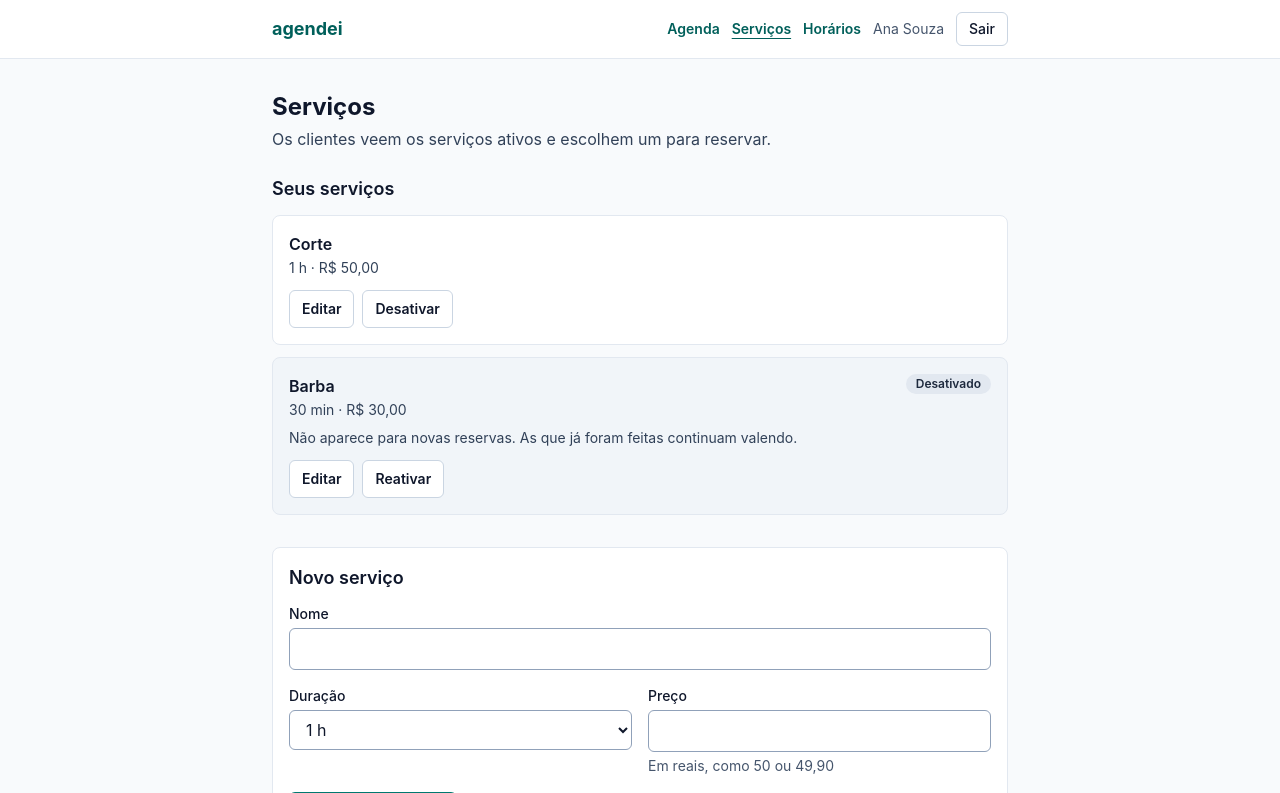
Test: serviços do prestador › edita um serviço e devolve o foco ao botão "Editar" (RF04)
Click the button named "Editar Corte" at (322, 309), box [289,290,354,328]
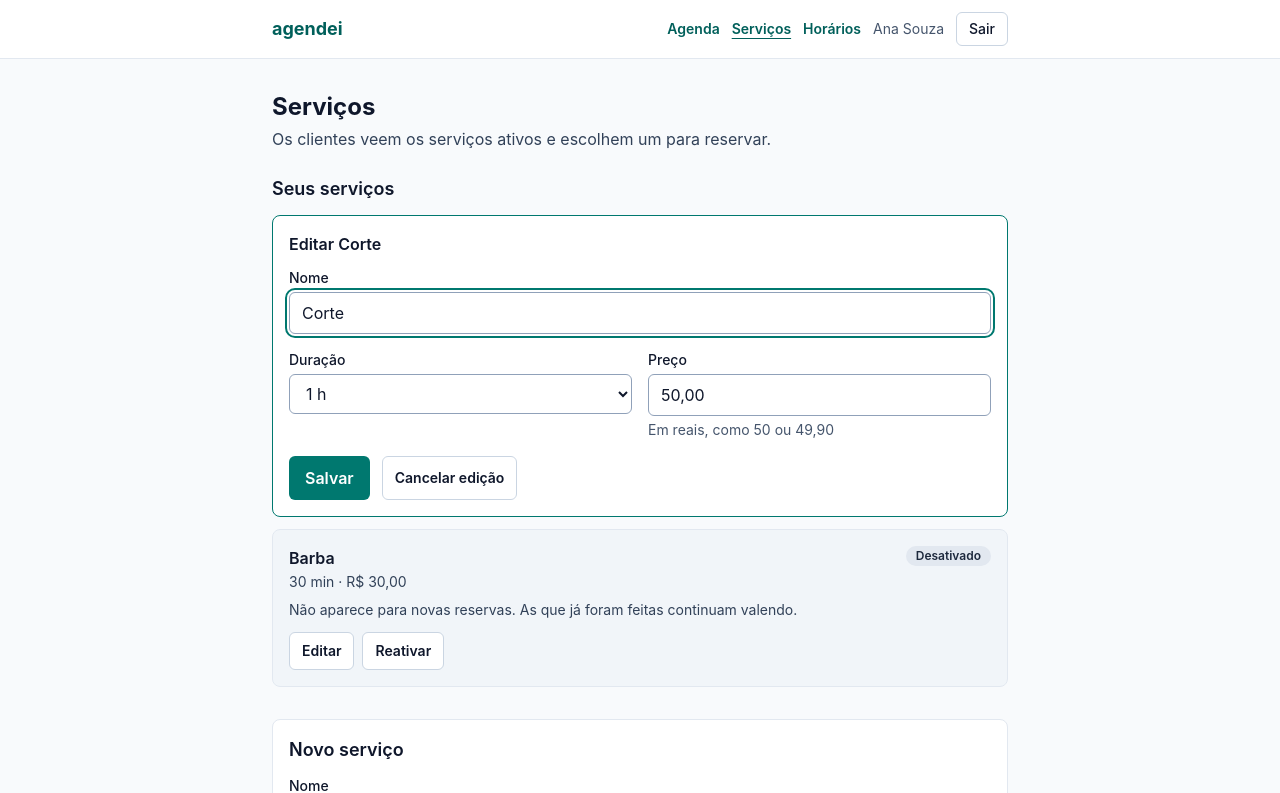
Expected: the field labelled "Nome" holds "Corte", [289,292,991,334]
Expected: the field labelled "Preço" holds "50,00"
Replace the text in the field labelled "Preço" with "55" at (820, 395), box [648,374,991,416]
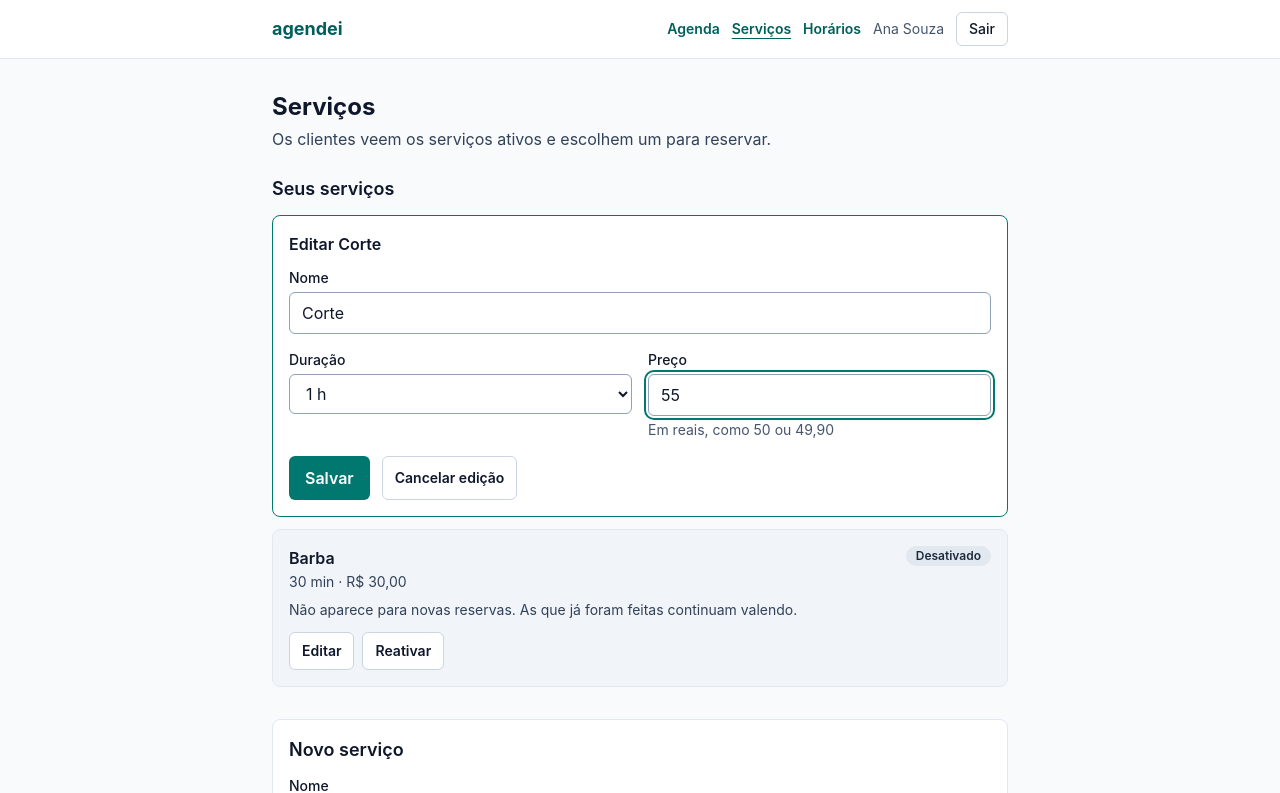
Click the button "Salvar" at (329, 478), box [289,456,370,500]
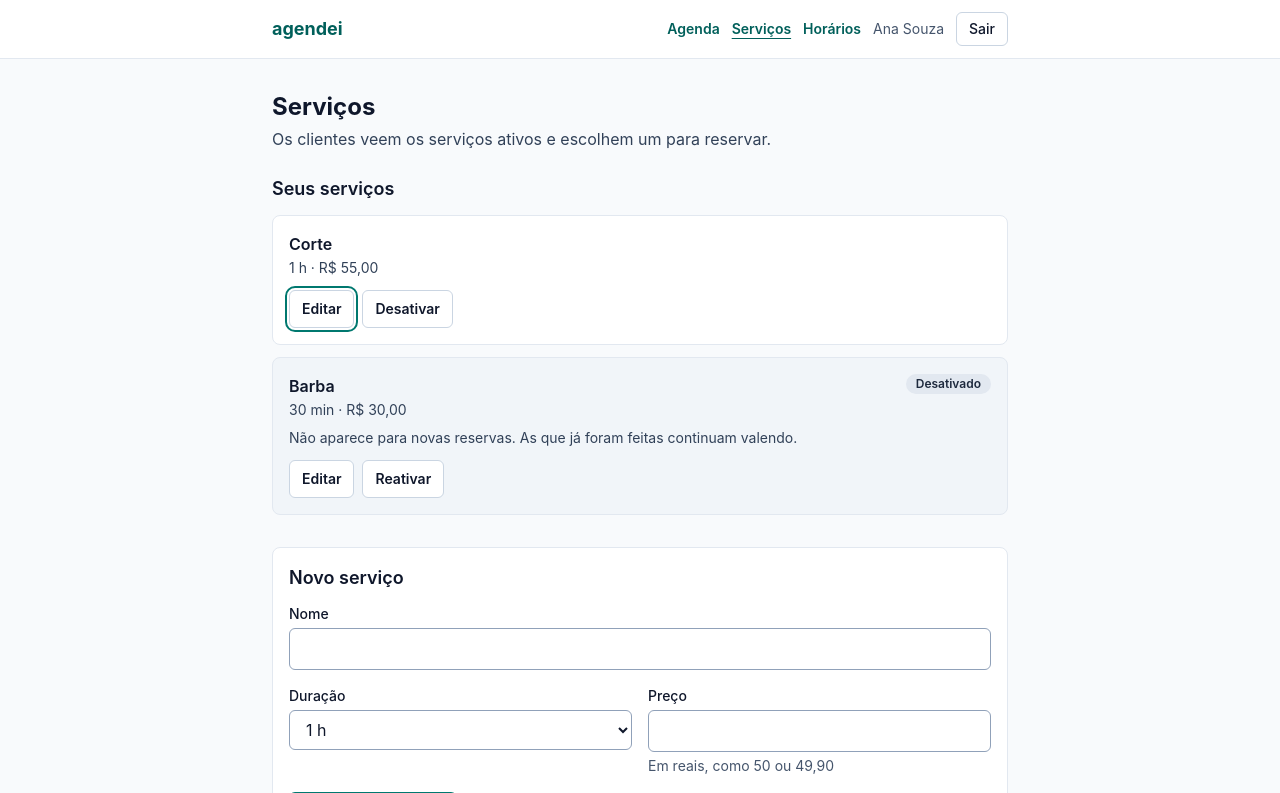
Expected: the list item named "Editar Corte" reads "Corte 1 h · R$ 55,00 Editar Desativar", [319,259,378,276]
